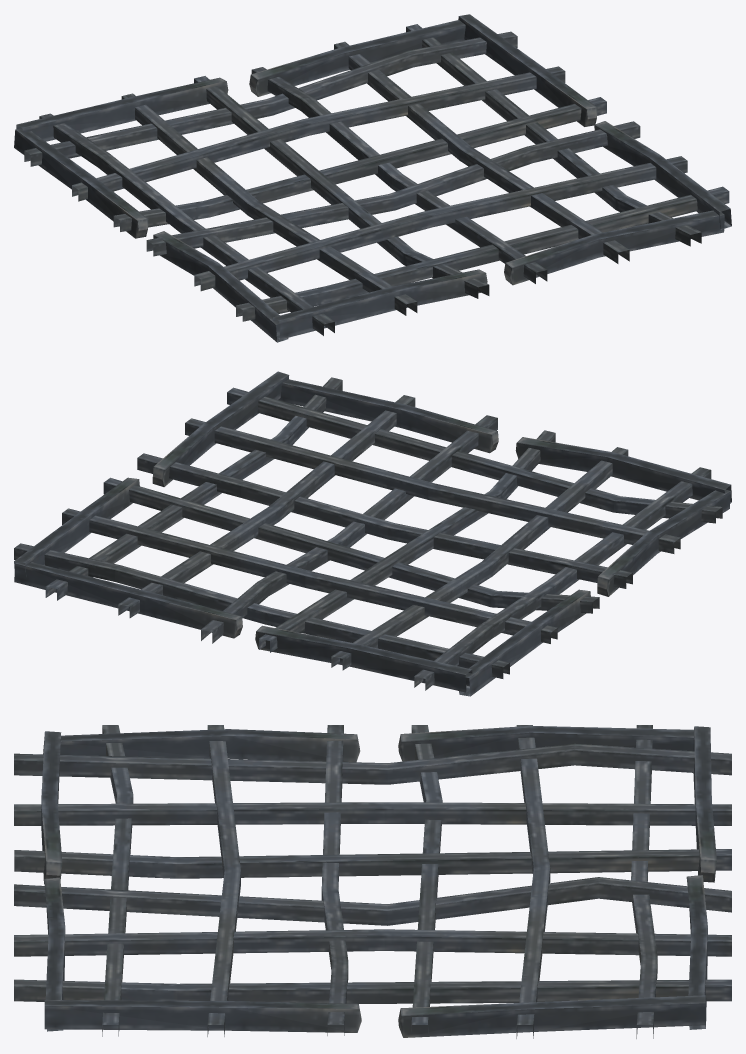
Rendered from Floor_Hole_Grate.obj.
3 renders of one model, top to bottom at view 1: azimuth 30°, elevation 25°; view 2: azimuth 150°, elevation 25°; view 3: azimuth 270°, elevation 25°, orthographic. The views are drawn at different scales.
Visible parts, largest first — view 1: Floor_Hole_Grate; view 2: Floor_Hole_Grate; view 3: Floor_Hole_Grate.
Part boxes in pixels (x1,y1,x2,y2): Floor_Hole_Grate: [14, 14, 731, 342]; Floor_Hole_Grate: [14, 371, 731, 696]; Floor_Hole_Grate: [14, 725, 731, 1038].
Bounding box in the file's own units: 8.7 × 0.572 × 8.8.
